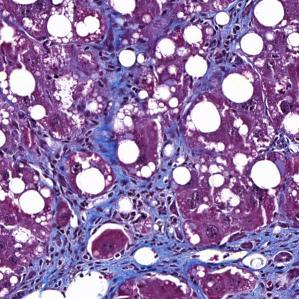fibrosis: (146, 238, 285, 294), (67, 173, 180, 231), (13, 241, 132, 294), (97, 26, 156, 106)
